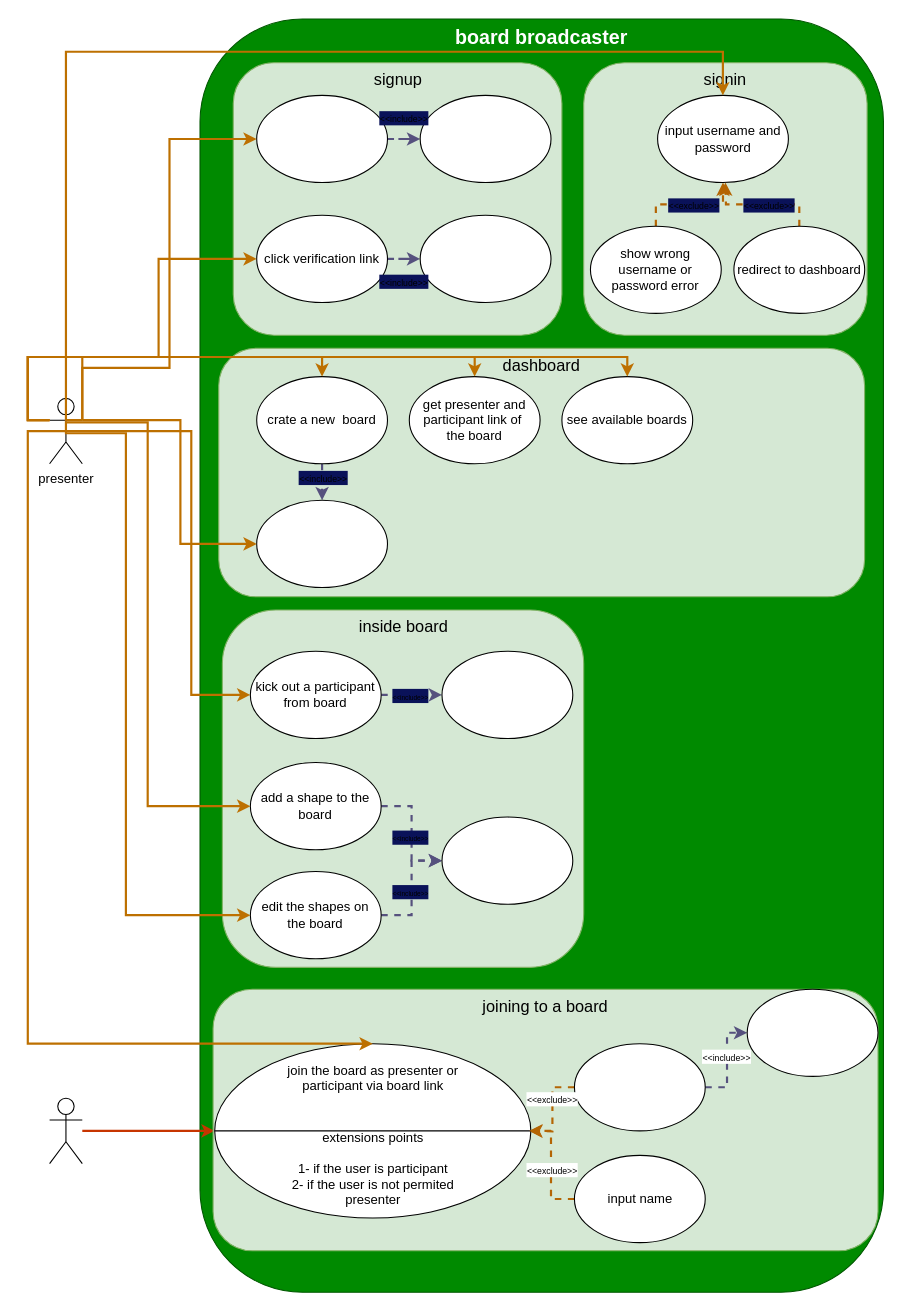
Image size: 903x1311. Some labels were removed from this diagram. The shapes that lost their labels are listed below. From the top down, each one's centre as x and y in pixels, then its label:
At (x=321, y=138): "input user name and password and email".
At (x=485, y=138): "send verification email to user email".
At (x=485, y=258): "redirect to login page".
At (x=321, y=543): "input board name".
At (x=507, y=694): "show kicked out error to the participant".
At (x=507, y=860): "send shapes to participants".
At (x=812, y=1032): "redirect to landing or dashboard".
At (x=639, y=1087): "show wrong permision error".
At (x=65, y=1130): "participant".
